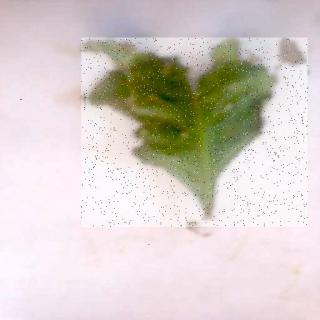Brown Blight: (83, 39, 310, 228)
